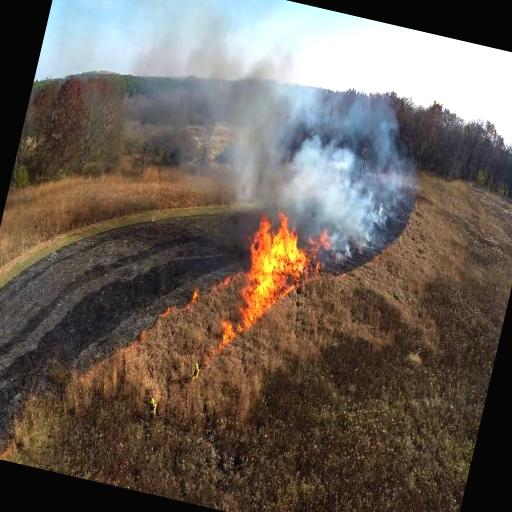fire: (153, 189, 347, 374)
smoke: (269, 132, 415, 270), (197, 80, 295, 192), (338, 97, 422, 181)
